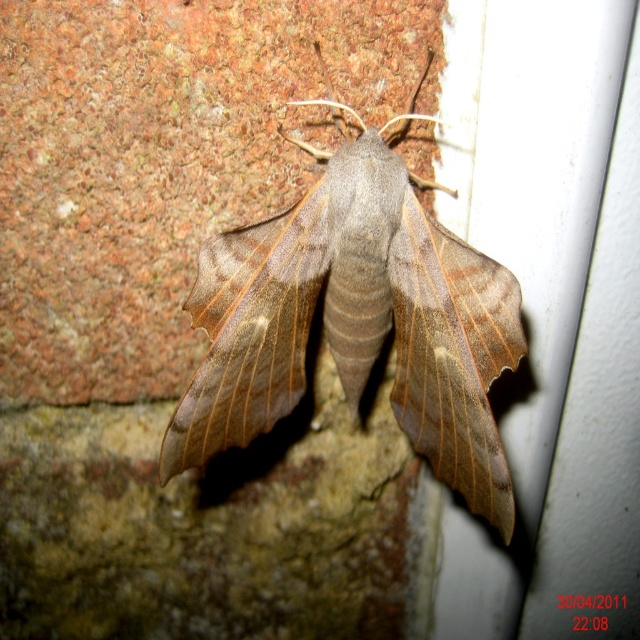Moths and butterflies: (156, 39, 533, 555)
